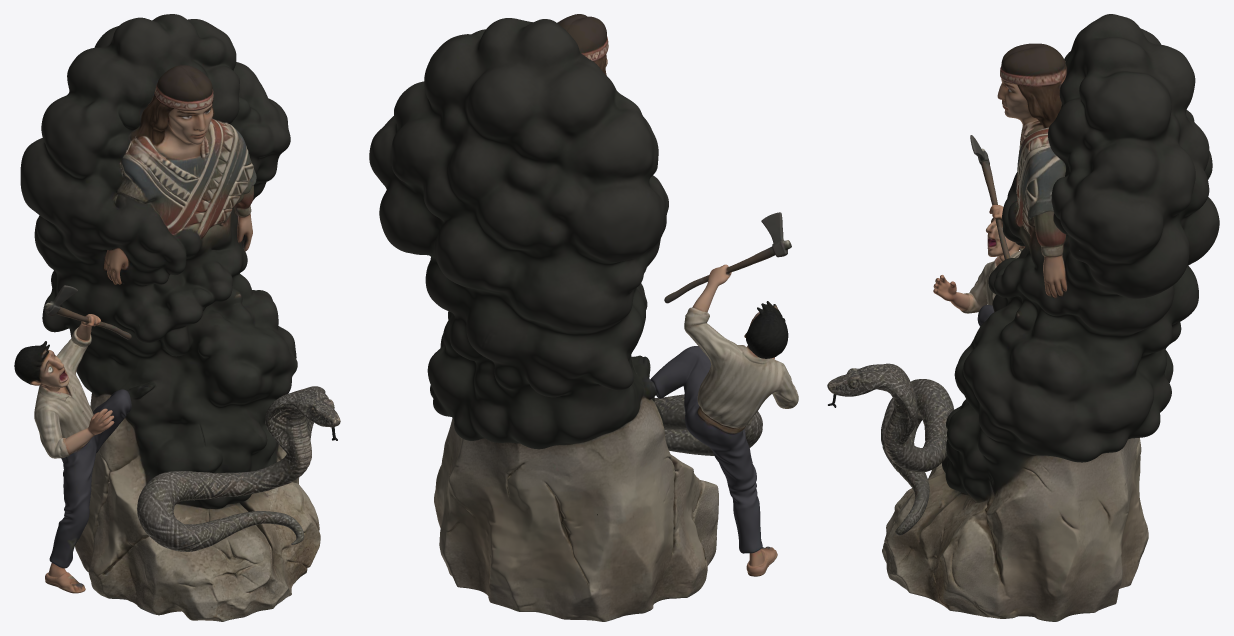
The model's file is 6.-la-serpiente-de-piedra-ventana-optimized.glb.
3 views of the same model, side by side, from view 1: azimuth 30°, elevation 25°; view 2: azimuth 150°, elevation 25°; view 3: azimuth 270°, elevation 25° (orthographic). The views are drawn at different scales.
Parts seen in each view (by area): view 1: tripo_node_ee838272-eff8-4d69-a894-3d2e8868466d; view 2: tripo_node_ee838272-eff8-4d69-a894-3d2e8868466d; view 3: tripo_node_ee838272-eff8-4d69-a894-3d2e8868466d.
Part boxes in pixels (x1,y1,x2,y2): tripo_node_ee838272-eff8-4d69-a894-3d2e8868466d: [14, 14, 340, 621]; tripo_node_ee838272-eff8-4d69-a894-3d2e8868466d: [369, 14, 798, 621]; tripo_node_ee838272-eff8-4d69-a894-3d2e8868466d: [827, 14, 1219, 621].
Bounding box in the file's own units: 0.6336 × 1 × 0.6475.
1 material, 1 textured.
